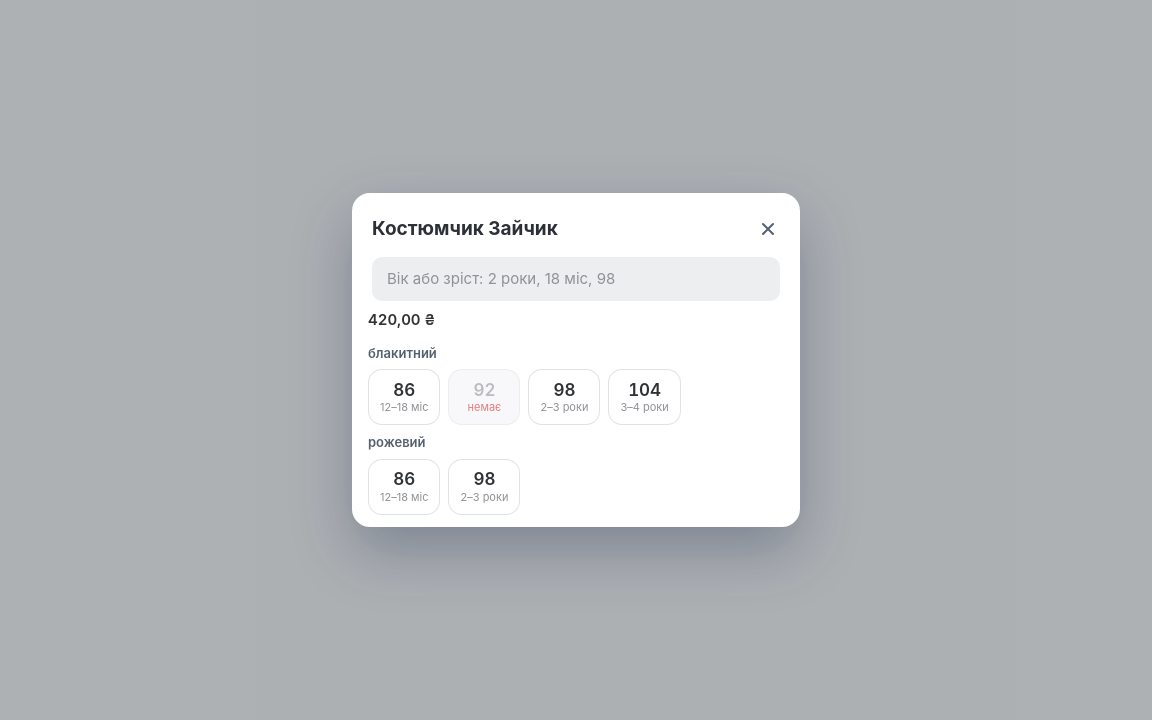
Test case: VariantPicker — «Вік або зріст дитини» › lights the sizes that fit an age, and the next one up for growth
The image size is (1152, 720).
In the field named "Вік або зріст дитини": (576, 279) x1=372 y1=257 x2=780 y2=301, type "2 роки"
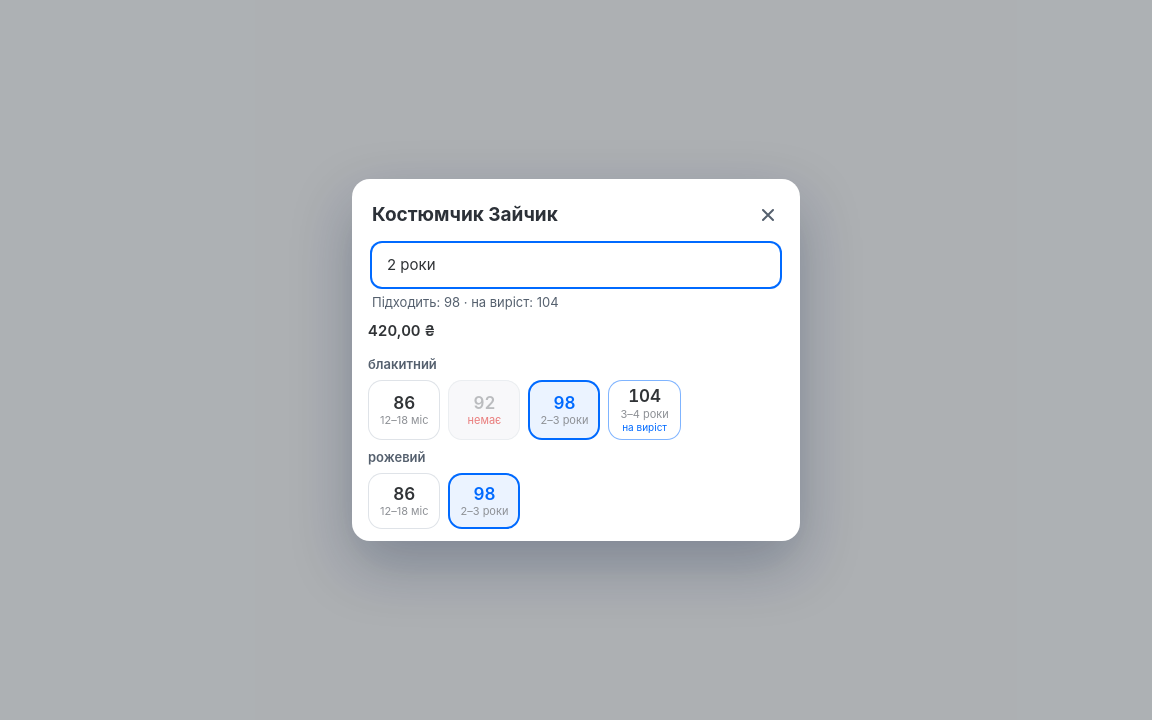
Expected: the message with test id "size-finder-status" reads "Підходить: 98 · на виріст: 104", x1=372 y1=294 x2=559 y2=310
